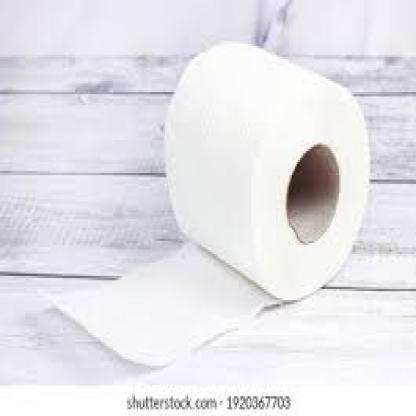tissue: (161, 36, 376, 312)
